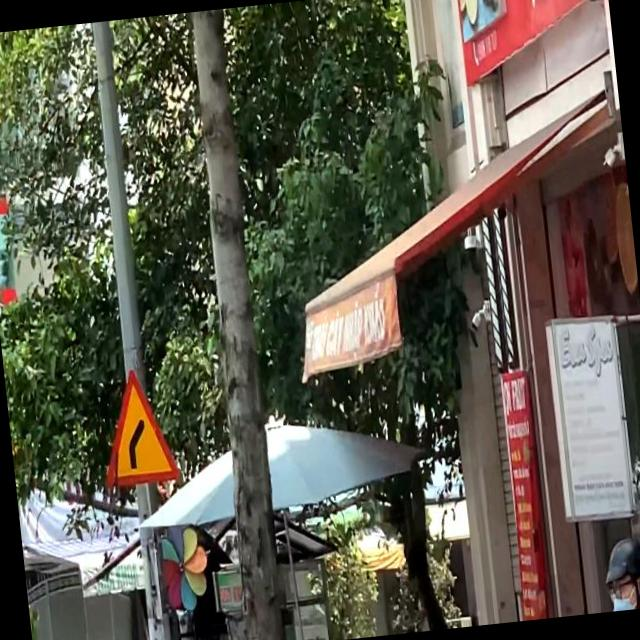W-201b: (90, 362, 180, 490)
